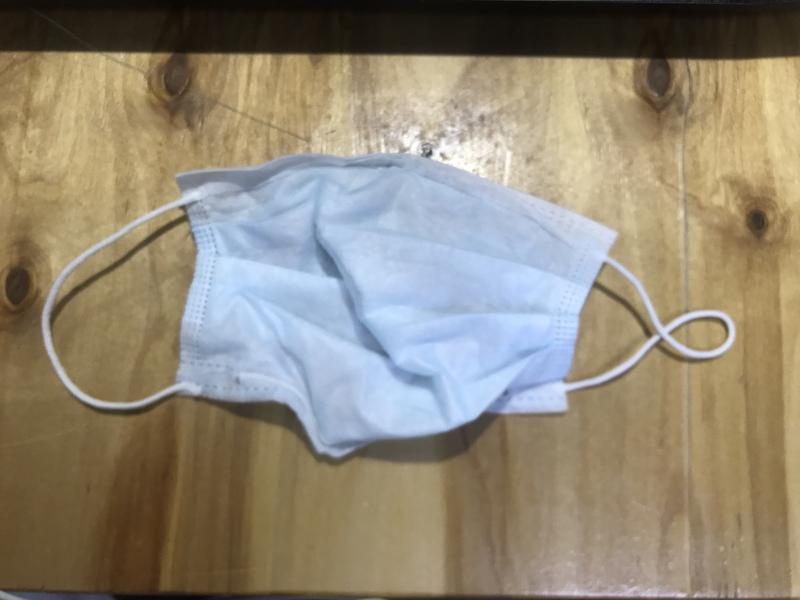medical_mask: (45, 153, 735, 456)
